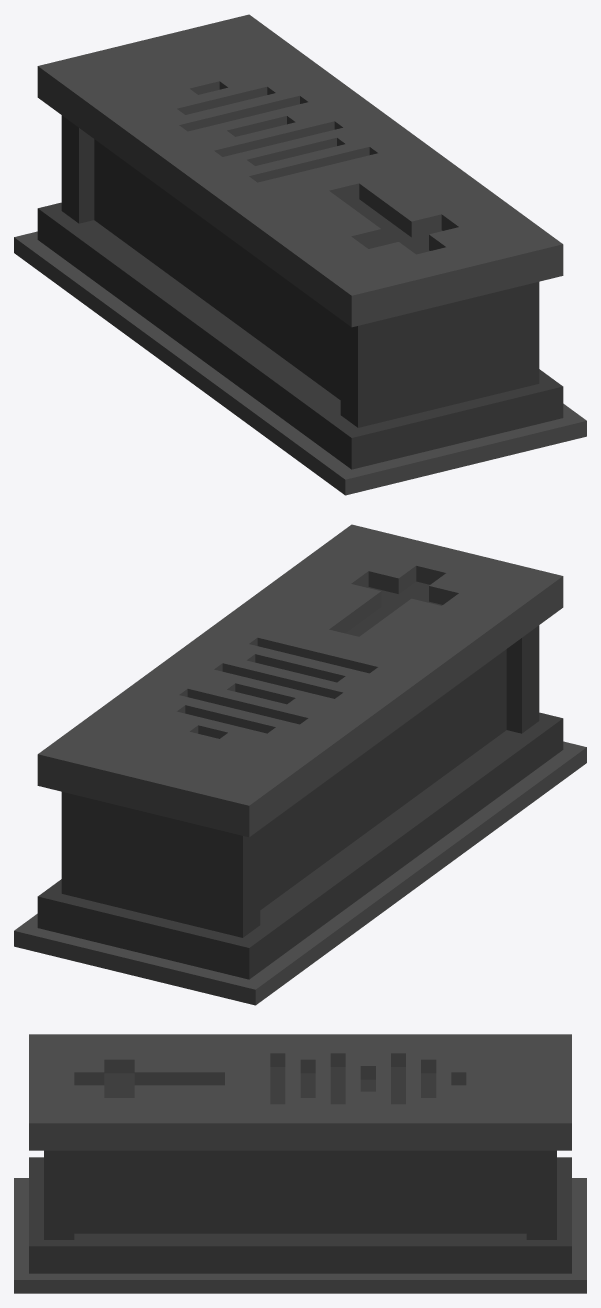
The model's file is Tumba 01.obj.
3 renders of one model, top to bottom at view 1: azimuth 30°, elevation 25°; view 2: azimuth 150°, elevation 25°; view 3: azimuth 270°, elevation 25°, orthographic. The views are drawn at different scales.
Size of the model in its own units: 1.6 by 1.2 by 3.8.
Materials: 1 (1 with a texture image).
